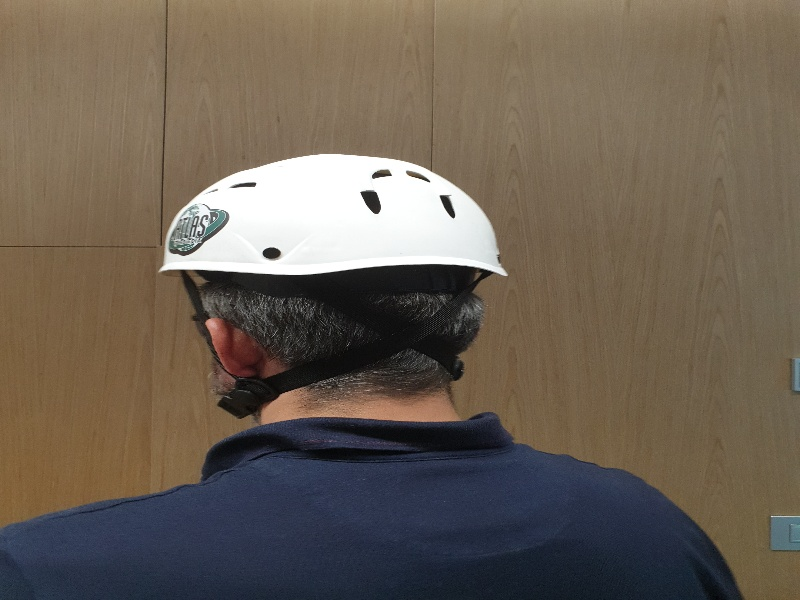Baret: (163, 154, 509, 283)
